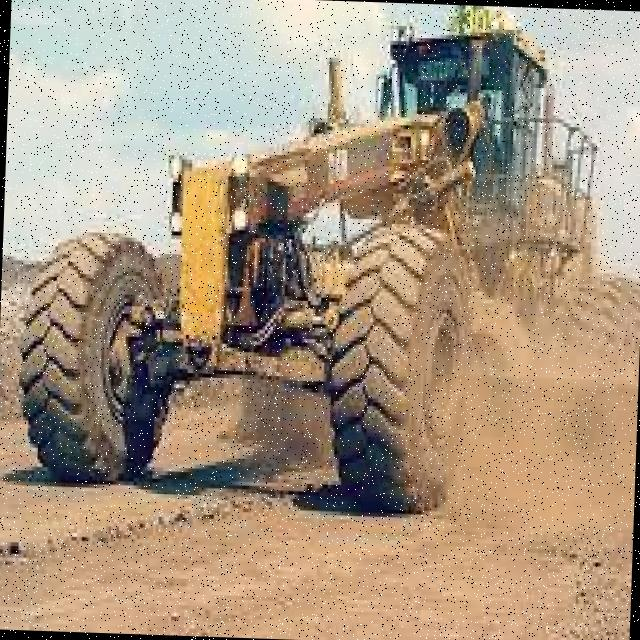Grader: (11, 0, 640, 548)
